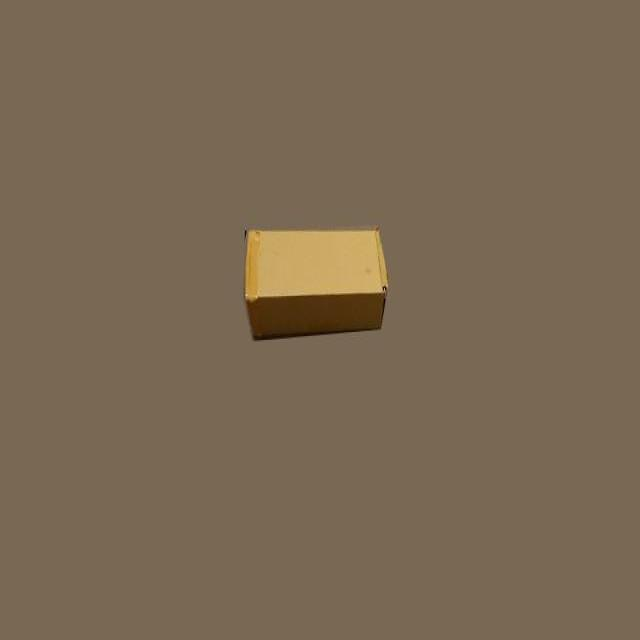Cardboard: (245, 228, 388, 339)
